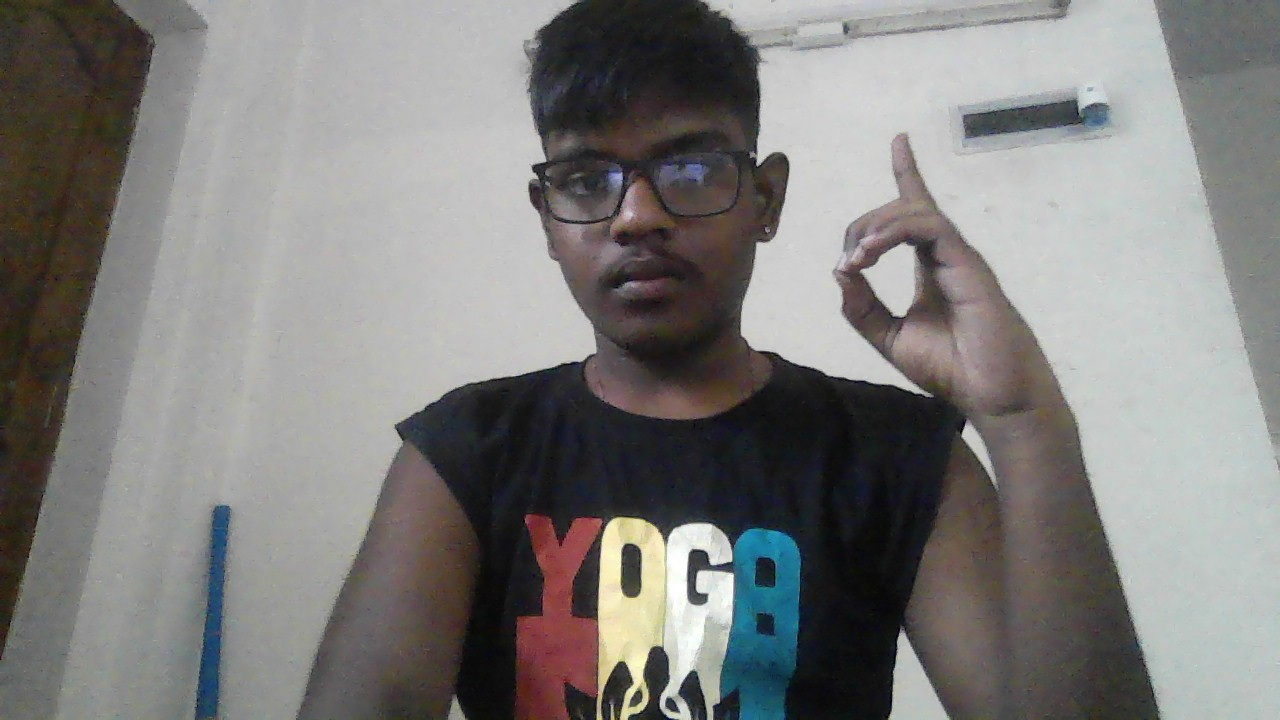D: (833, 132, 1042, 412)
